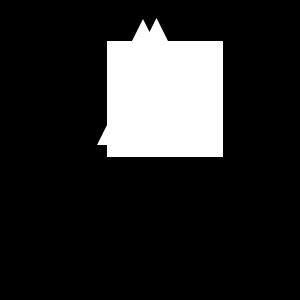circle: (107, 41, 223, 157)
triangle: (112, 18, 201, 107), (97, 76, 166, 145), (121, 19, 165, 63)
